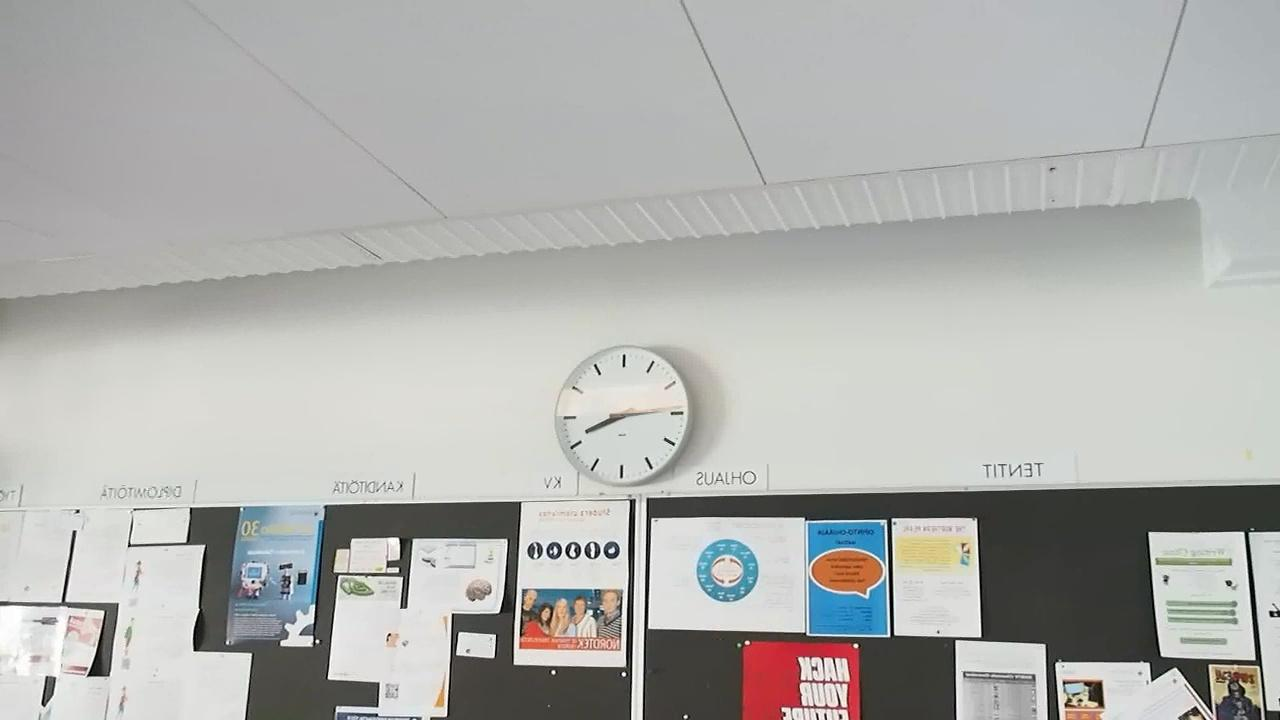clock: (548, 348, 697, 496)
